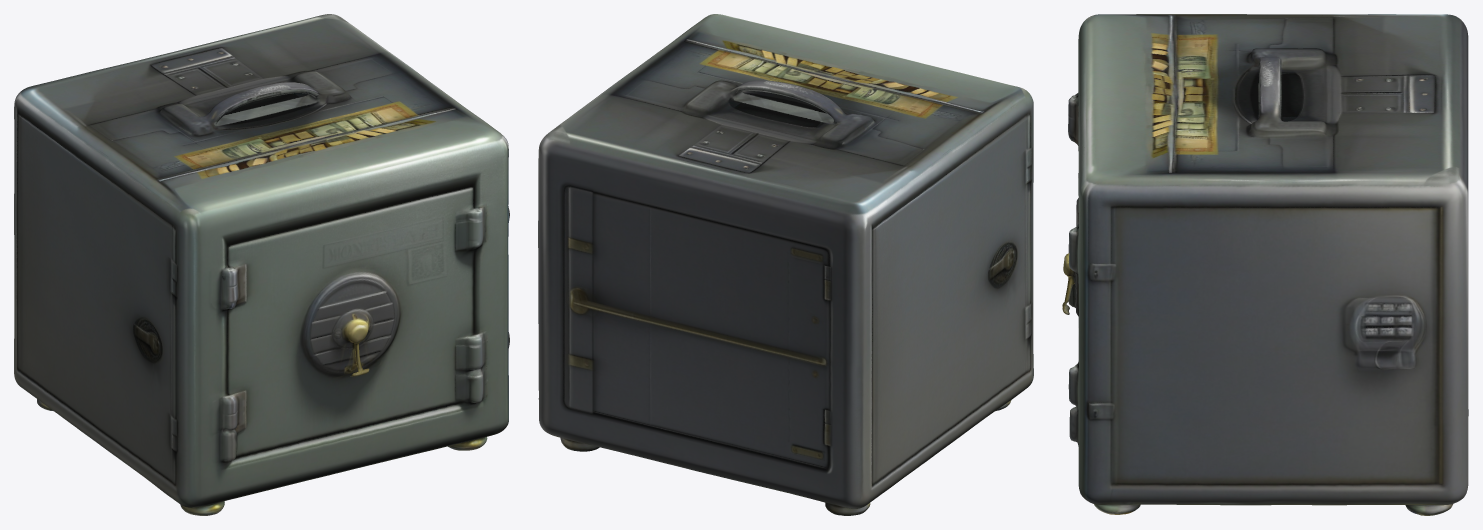
The picture shows the model from 3 angles, left to right: view 1: azimuth 30°, elevation 25°; view 2: azimuth 150°, elevation 25°; view 3: azimuth 270°, elevation 25°; orthographic projection. The views are drawn at different scales.
Parts seen in each view (by area): view 1: Mesh_0; view 2: Mesh_0; view 3: Mesh_0.
Boxes of the visible parts, bbox=[...] form: Mesh_0: bbox=[14, 14, 509, 515]; Mesh_0: bbox=[538, 14, 1033, 515]; Mesh_0: bbox=[1062, 14, 1468, 515].
Size of the model in its own units: 200 by 194 by 195.
Materials: 1 (1 with a texture image).
